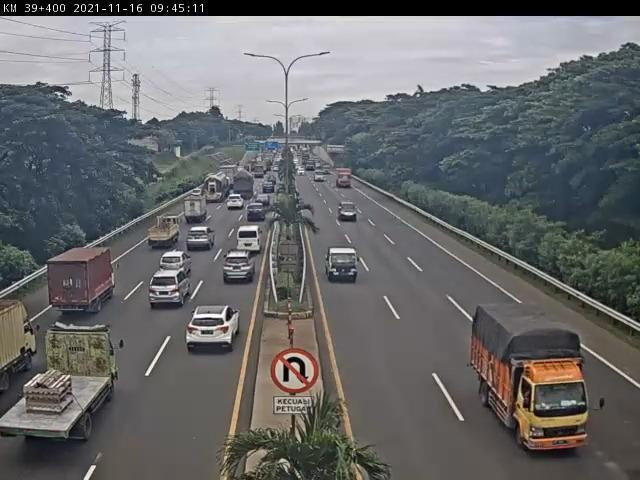car: (185, 305, 237, 351), (150, 270, 194, 309), (326, 248, 361, 282), (221, 255, 254, 289), (156, 255, 190, 280), (238, 228, 265, 258), (181, 233, 210, 258), (338, 202, 360, 222), (225, 194, 246, 213), (245, 208, 266, 227), (253, 196, 271, 211)
truck: (472, 306, 591, 453), (1, 324, 125, 442), (48, 247, 120, 315), (146, 218, 182, 253), (232, 172, 259, 204), (205, 173, 230, 203), (179, 199, 204, 228)
